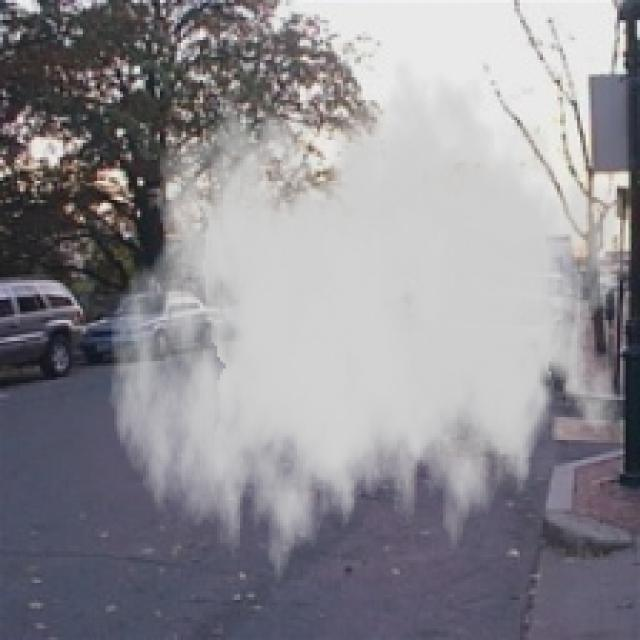smoke: (109, 49, 634, 606)
